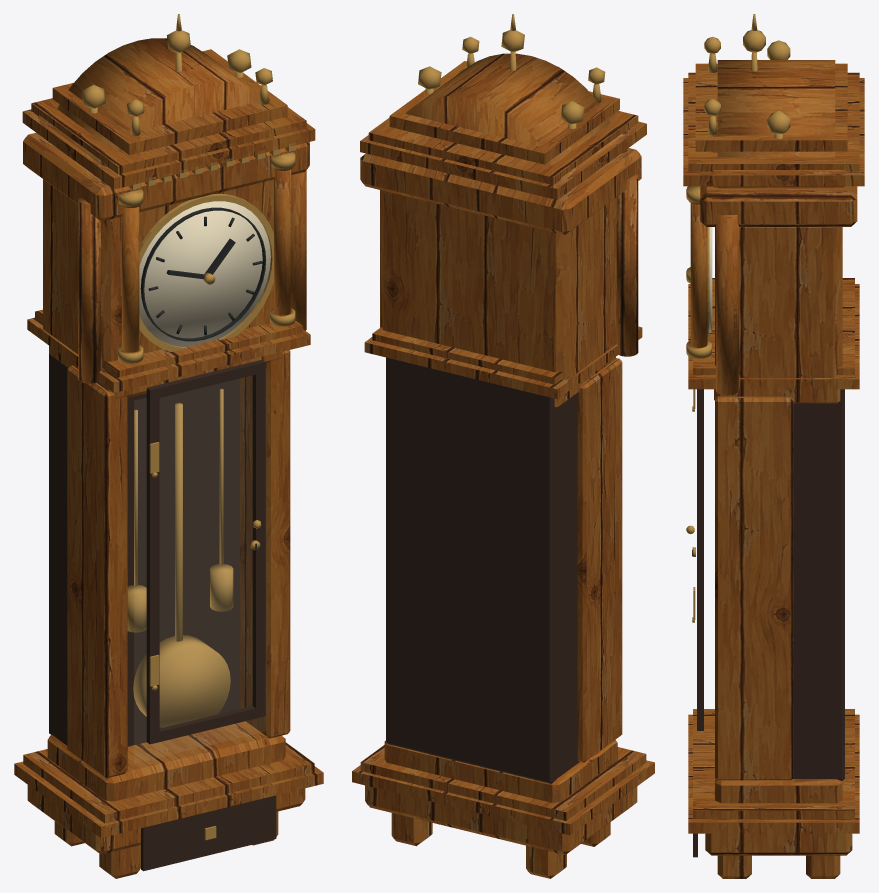
The picture shows the model from 3 angles, left to right: view 1: azimuth 30°, elevation 25°; view 2: azimuth 150°, elevation 25°; view 3: azimuth 270°, elevation 25°; orthographic projection. The views are drawn at different scales.
Parts seen in each view (by area): view 1: clockshop_walnut, clockshop_walnut.001, clockshop_darkwood, clockshop_darkwood.001, clockshop_brass, clockshop_ivory, clockshop_brass.001, clockshop_ink; view 2: clockshop_walnut, clockshop_darkwood, clockshop_walnut.001, clockshop_brass.001, clockshop_brass; view 3: clockshop_walnut, clockshop_walnut.001, clockshop_darkwood, clockshop_darkwood.001, clockshop_brass.001, clockshop_brass, clockshop_ivory.
Part boxes in pixels (<box>): clockshop_walnut: <box>23,38,309,878</box>; clockshop_walnut.001: <box>14,49,323,837</box>; clockshop_darkwood: <box>49,354,239,746</box>; clockshop_darkwood.001: <box>141,359,276,871</box>; clockshop_brass: <box>81,49,273,727</box>; clockshop_ivory: <box>139,201,270,346</box>; clockshop_brass.001: <box>118,14,296,840</box>; clockshop_ink: <box>140,207,266,341</box>; clockshop_walnut: <box>360,53,641,878</box>; clockshop_darkwood: <box>386,357,579,783</box>; clockshop_walnut.001: <box>352,61,654,835</box>; clockshop_brass.001: <box>462,14,605,102</box>; clockshop_brass: <box>418,66,584,128</box>; clockshop_walnut: <box>700,60,857,878</box>; clockshop_walnut.001: <box>683,63,864,833</box>; clockshop_darkwood: <box>792,389,844,780</box>; clockshop_darkwood.001: <box>693,389,703,857</box>; clockshop_brass.001: <box>686,14,765,622</box>; clockshop_brass: <box>707,40,790,338</box>; clockshop_ivory: <box>709,227,712,332</box>.
Bounding box in the file's own units: 1.05 × 3.72 × 0.74.
6 materials, 1 textured.
